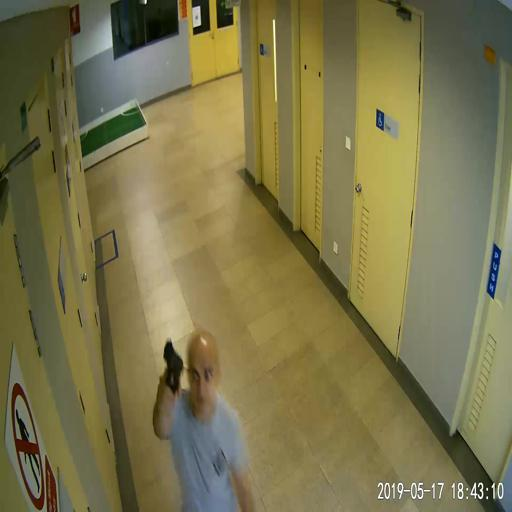pistol: (161, 338, 183, 400)
